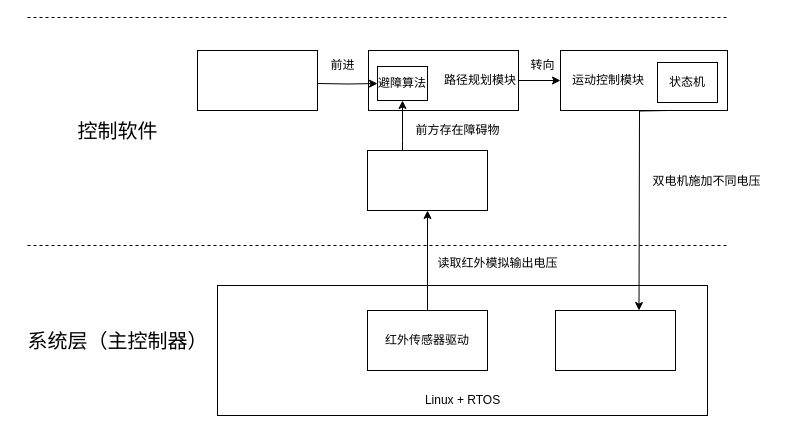
The diagram is 788 pixels wide and 433 high, and some of its shapes have lost their labels. The centre of each missing label's shape, as x and y in pixels:
"传感器模块" goes at point (427, 180).
"用户输入模块" goes at point (257, 80).
"电机驱动" goes at point (615, 340).
